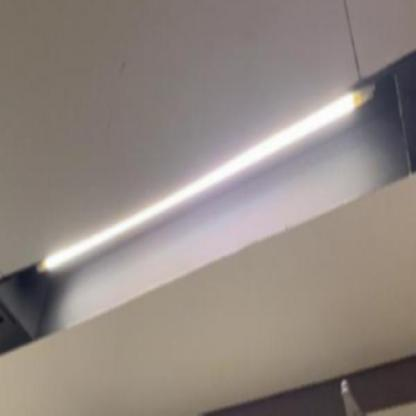light_on: (29, 77, 383, 286)
